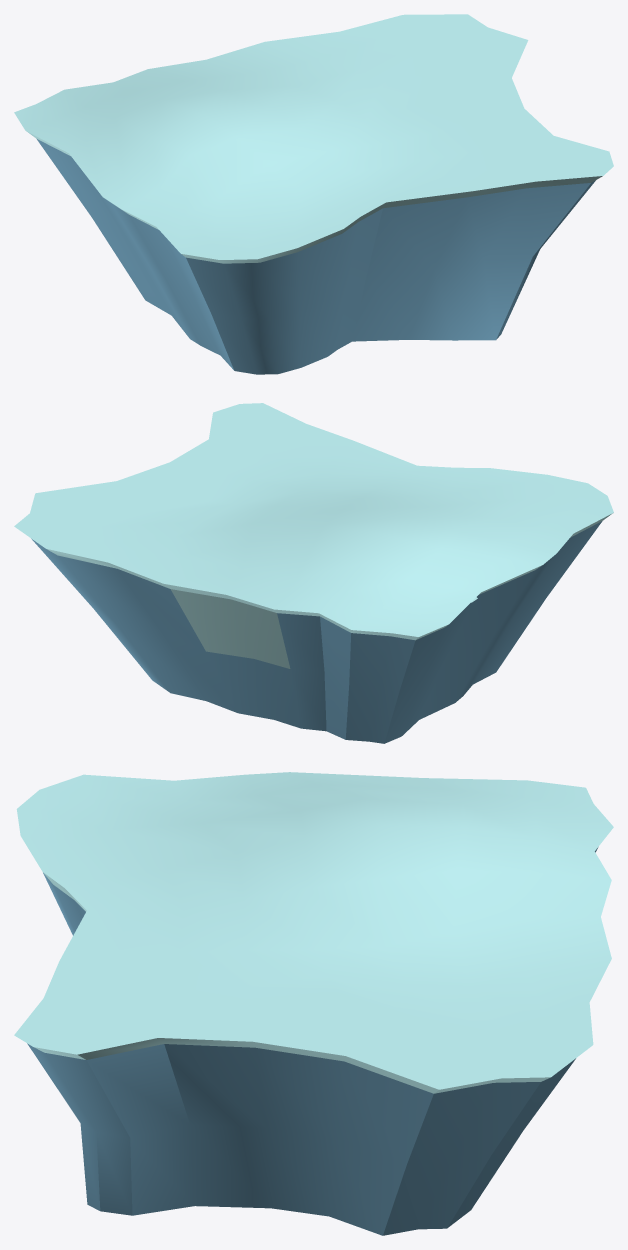
File: iceberg2.fbx
3 renders of one model, top to bottom at view 1: azimuth 30°, elevation 25°; view 2: azimuth 150°, elevation 25°; view 3: azimuth 270°, elevation 25°, orthographic. The views are drawn at different scales.
Visible parts, largest first — view 1: icebergtwo; view 2: icebergtwo; view 3: icebergtwo.
Boxes of the visible parts, x1=… form: icebergtwo: x1=14, y1=14, x2=613, y2=374; icebergtwo: x1=14, y1=403, x2=613, y2=743; icebergtwo: x1=14, y1=772, x2=613, y2=1235.
Bounding box in the file's own units: 2445 × 928 × 1961.
